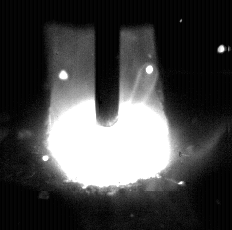arame: (95, 0, 120, 127)
poca: (47, 0, 171, 230)
